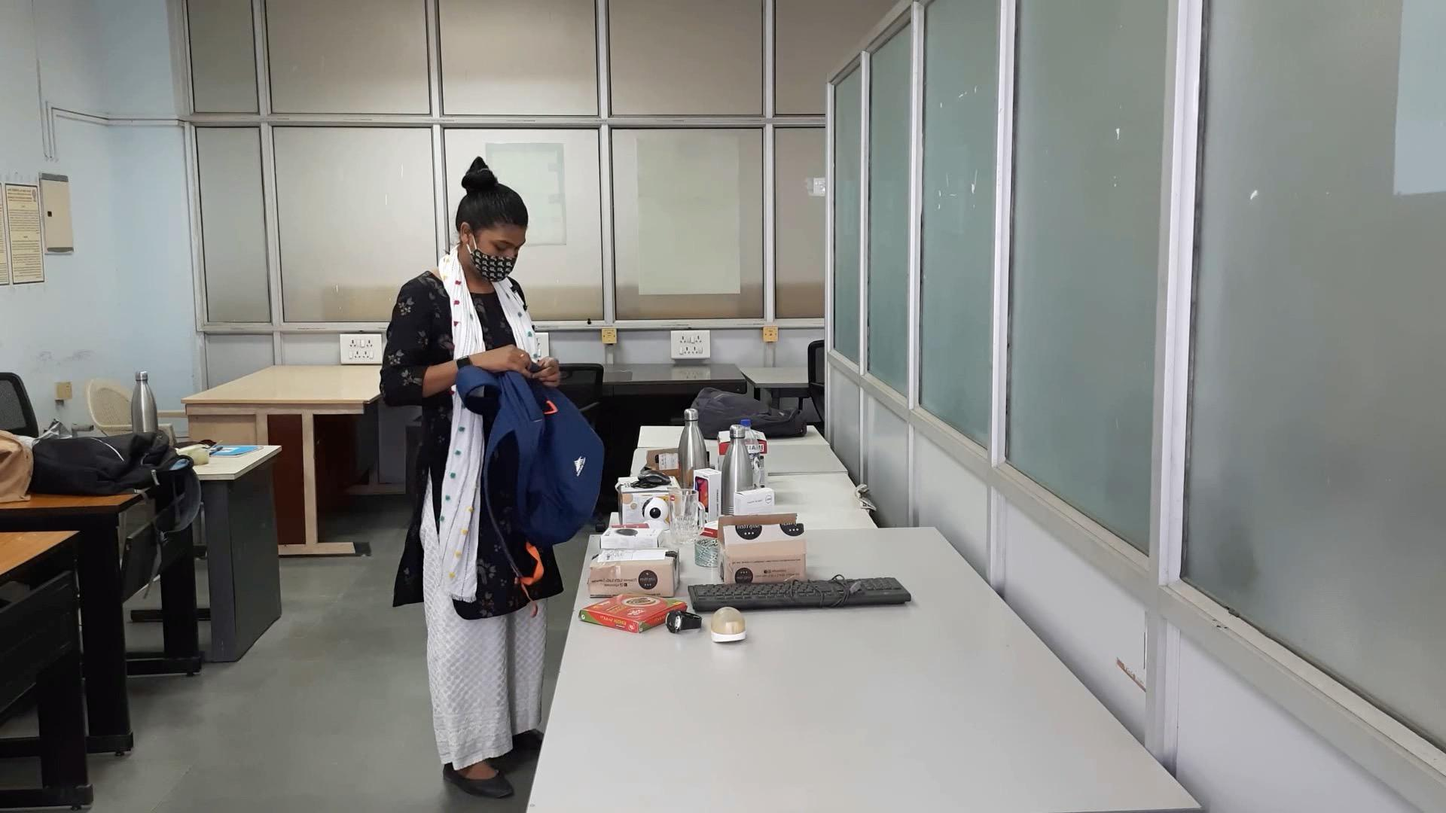shoplifting: (322, 318, 817, 672)
